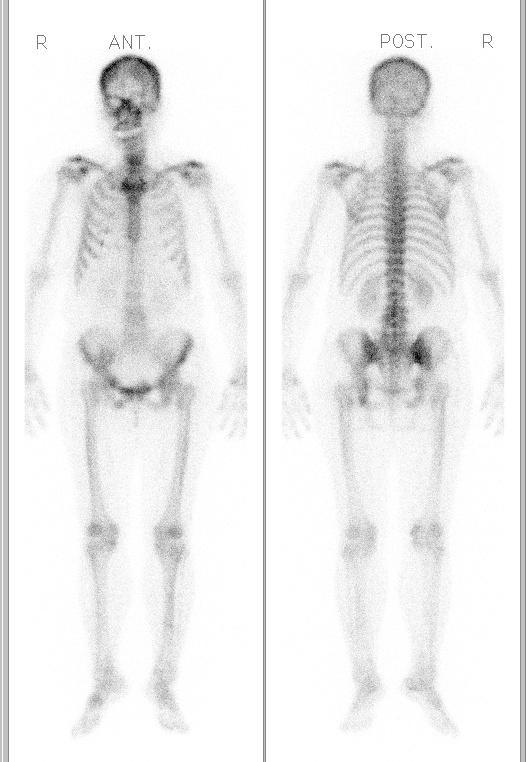person: (9, 1, 519, 762)
